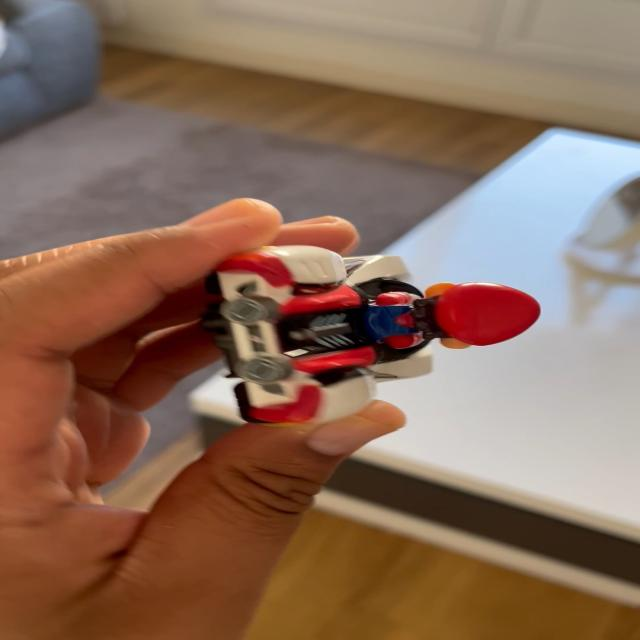mario: (188, 232, 544, 434)
